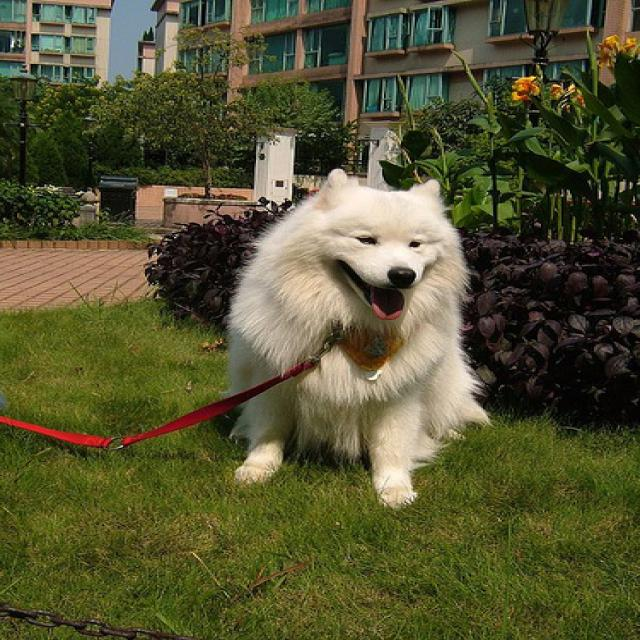dog-samoyed: (222, 164, 485, 512)
